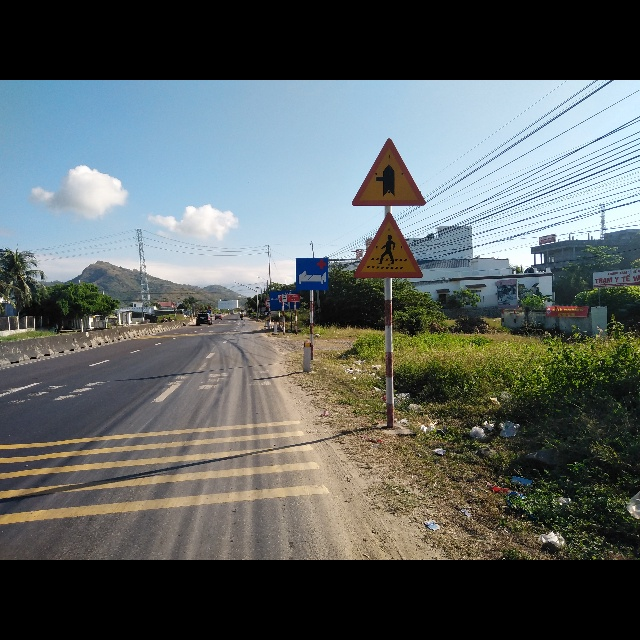Bệnh viện: (295, 258, 329, 294)
Giao nhau với đường không ưu tiên: (351, 137, 427, 207)
Đường người đi bộ sang đường: (351, 214, 425, 279)
